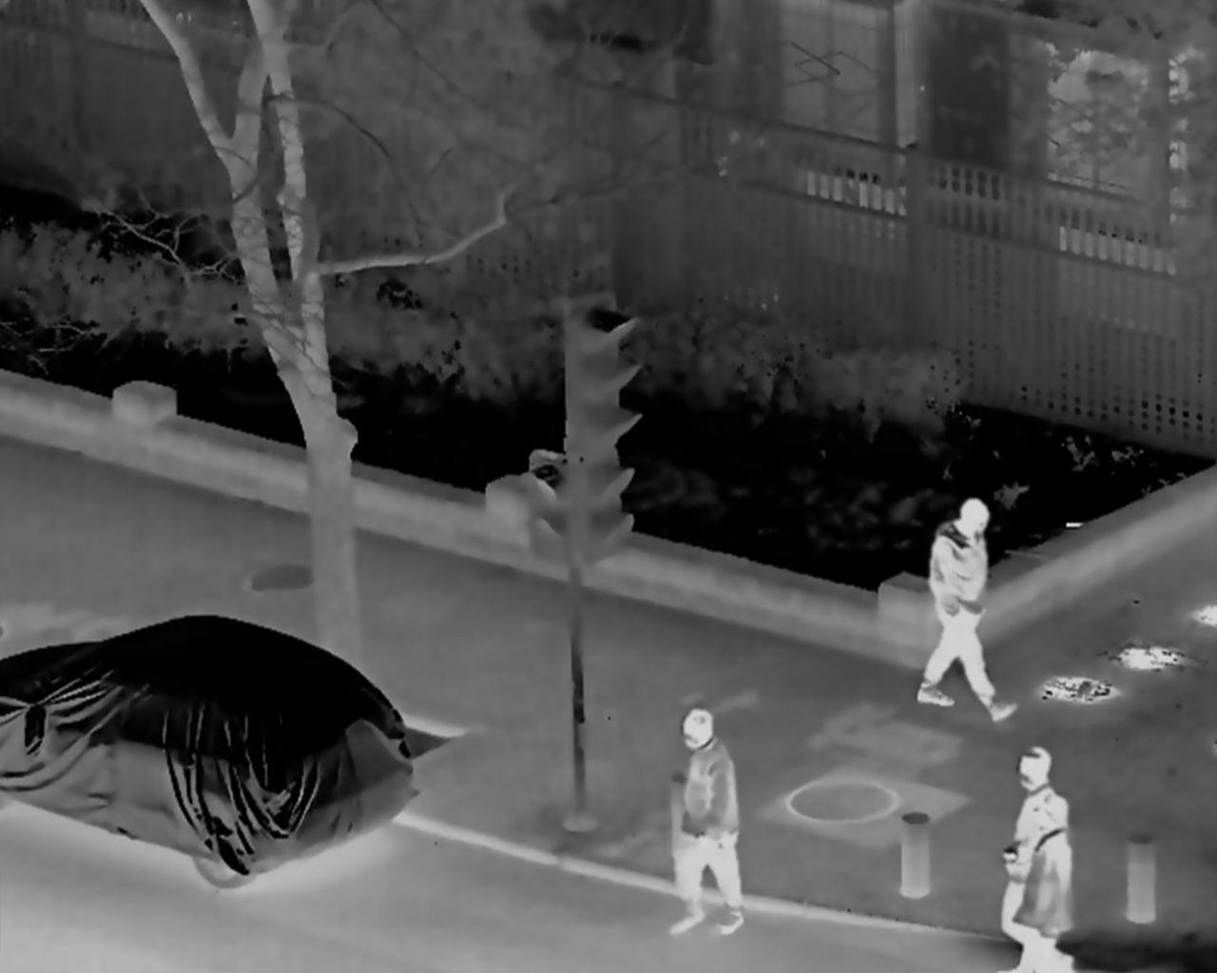person: (921, 498, 1014, 720), (661, 706, 749, 935), (996, 744, 1065, 966), (1014, 802, 1073, 972)
